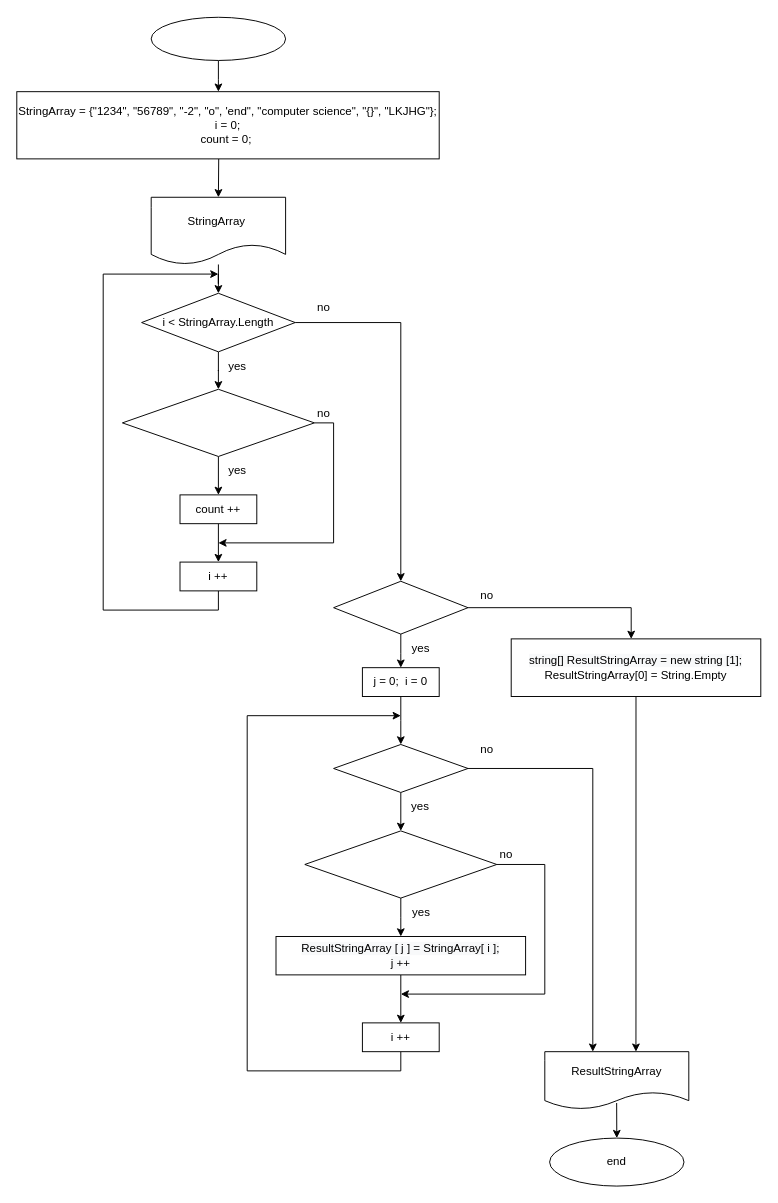
Some shapes in this 778 by 1203 pixel diagram are drawn without their labels. The shapes that lost their labels are listed below. From the top down, each one's box as (x1, y1, x2, y2) in pixels, then its label:
(150, 16, 286, 60): Start
(121, 388, 314, 456): StringArray[i].Length <= 3
(333, 580, 468, 634): count != 0
(333, 744, 468, 792): j < count
(304, 830, 497, 898): StringArray[ i ].Length <= 3
